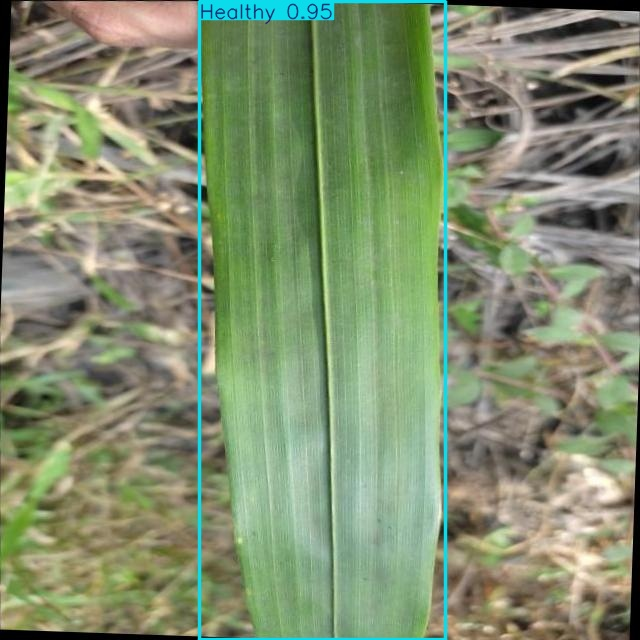Healthy: (199, 1, 446, 639)
